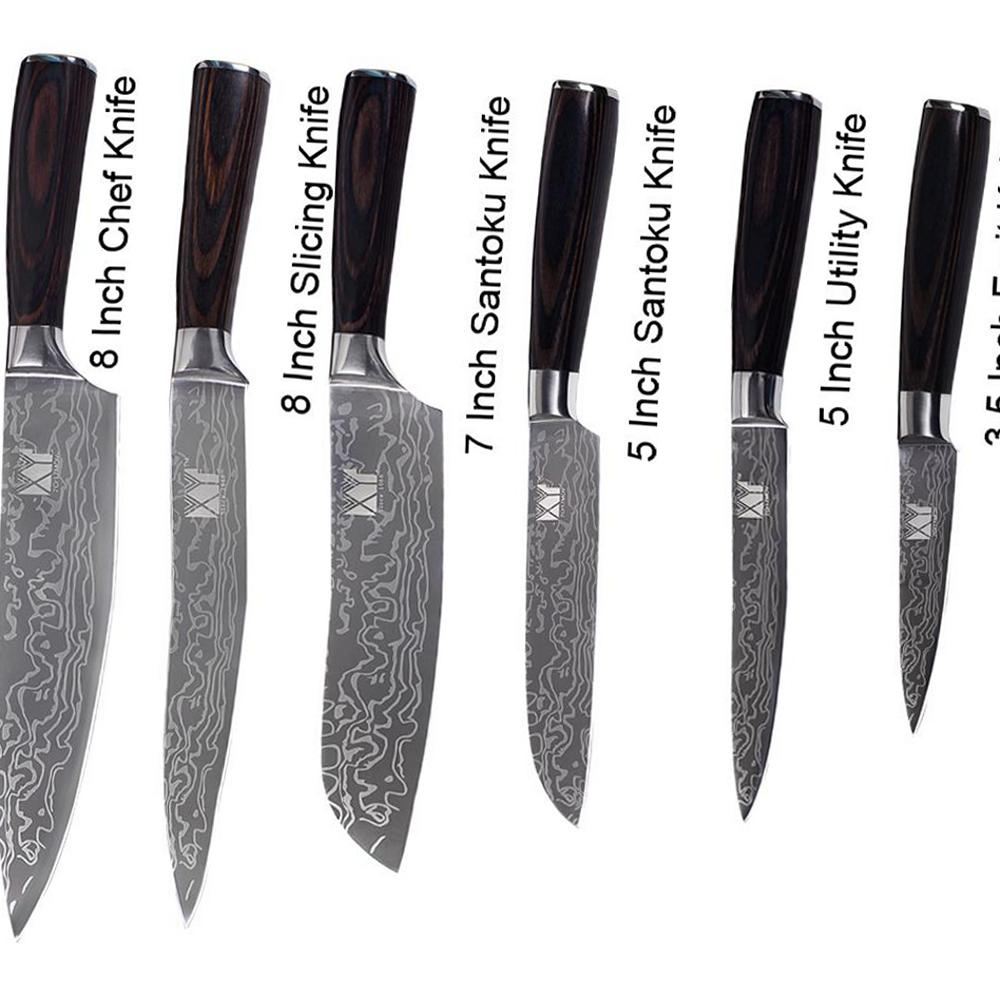knife: (1, 57, 117, 937), (167, 53, 270, 918), (527, 78, 621, 827), (730, 90, 823, 816), (900, 96, 989, 743)
